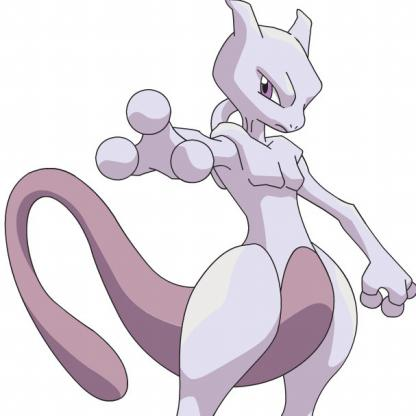Mewtwo: (1, 20, 416, 416)
